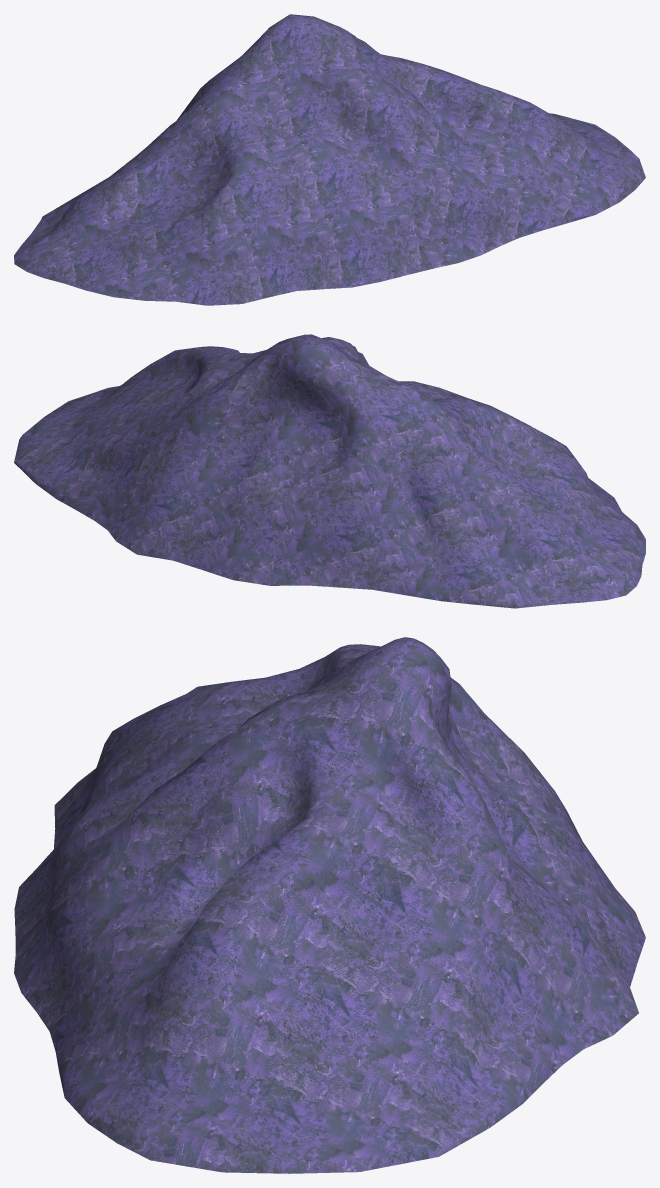
The model's file is AlienGrove_Mountain1_SM.fbx.
3 views of the same model, one above another, from view 1: azimuth 30°, elevation 25°; view 2: azimuth 150°, elevation 25°; view 3: azimuth 270°, elevation 25° (orthographic). The views are drawn at different scales.
Parts seen in each view (by area): view 1: AlienGrove_Mountain1_SM; view 2: AlienGrove_Mountain1_SM; view 3: AlienGrove_Mountain1_SM.
Boxes of the visible parts, x1,y1,x2,y2 form: AlienGrove_Mountain1_SM: (14,14,645,305); AlienGrove_Mountain1_SM: (14,334,645,608); AlienGrove_Mountain1_SM: (14,637,645,1173).
Size of the model in its own units: 3124 by 893 by 1754.
